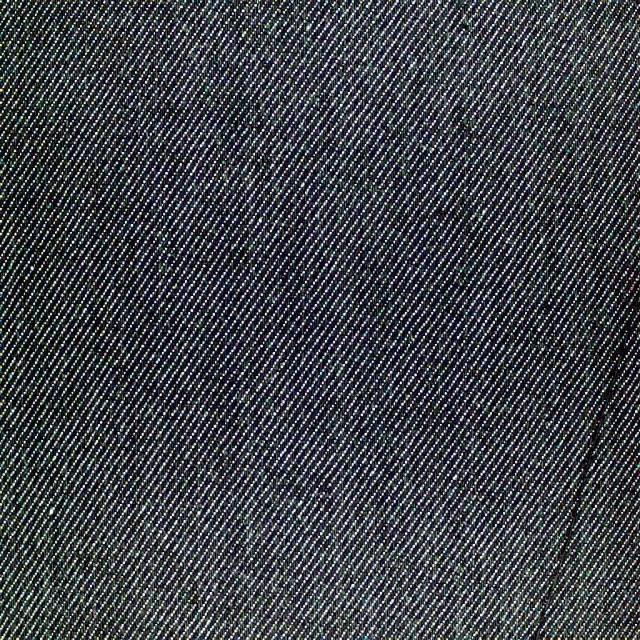defect: (528, 299, 640, 635)
